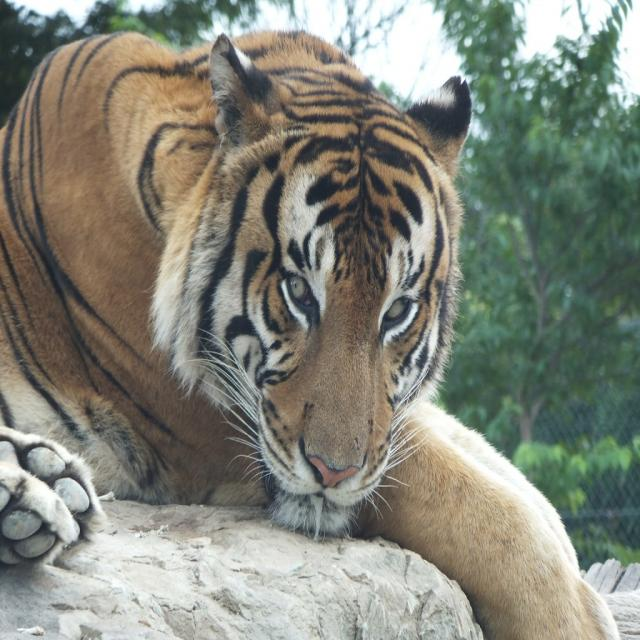Tiger: (0, 26, 625, 640)
